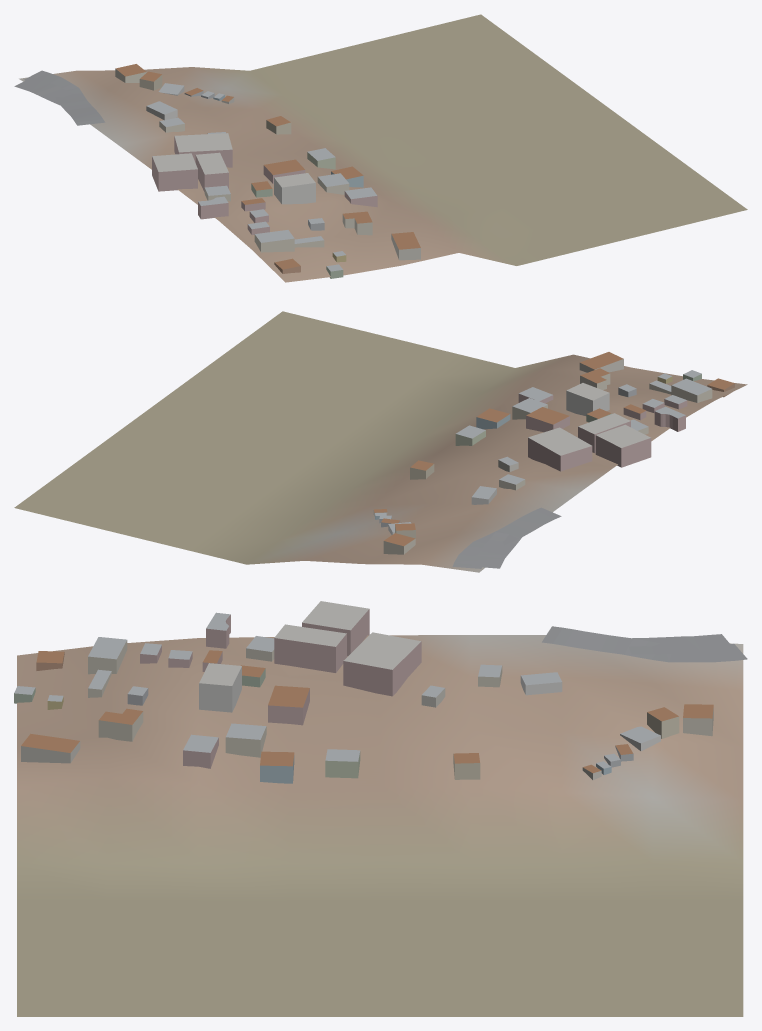
3 renders of one model, top to bottom at view 1: azimuth 30°, elevation 25°; view 2: azimuth 150°, elevation 25°; view 3: azimuth 270°, elevation 25°, orthographic. The views are drawn at different scales.
Parts seen in each view (by area): view 1: Lo; view 2: Lo; view 3: Lo.
Part boxes in pixels (bbox=[...]): Lo: bbox=[14, 14, 747, 282]; Lo: bbox=[14, 311, 747, 572]; Lo: bbox=[14, 601, 747, 1016].
Size of the model in its own units: 265 by 38.38 by 259.
